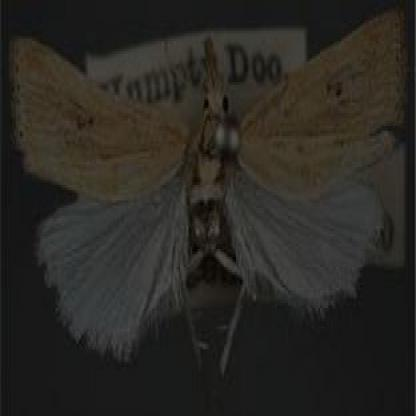stem-borer: (9, 5, 407, 389)
